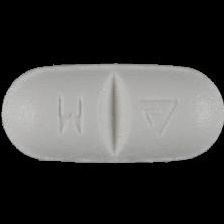35356-934: (0, 0, 224, 224)
